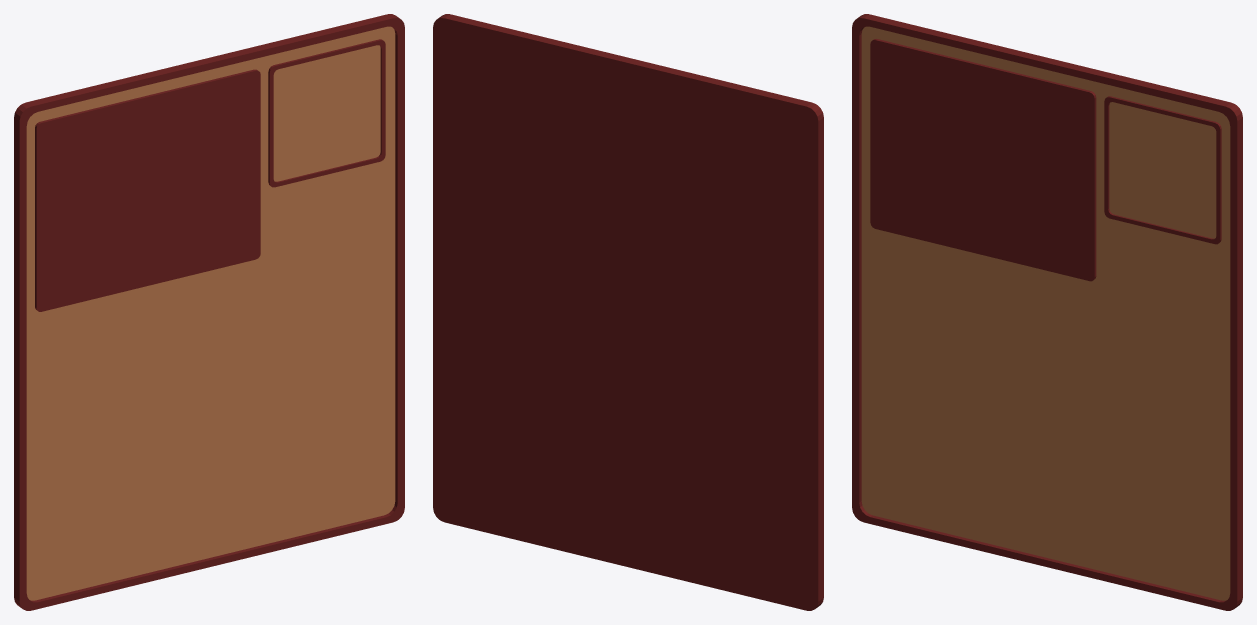
File: MenuBoard.glb
The picture shows the model from 3 angles, left to right: view 1: azimuth 30°, elevation 25°; view 2: azimuth 150°, elevation 25°; view 3: azimuth 330°, elevation 25°; orthographic projection.
Visible parts, largest first — view 1: Cube; view 2: Cube; view 3: Cube.
Part boxes in pixels (<box>): Cube: <box>14,14,404,610</box>; Cube: <box>433,14,823,610</box>; Cube: <box>852,14,1242,610</box>.
Size of the model in its own units: 0.4367 by 0.5459 by 0.0109.
